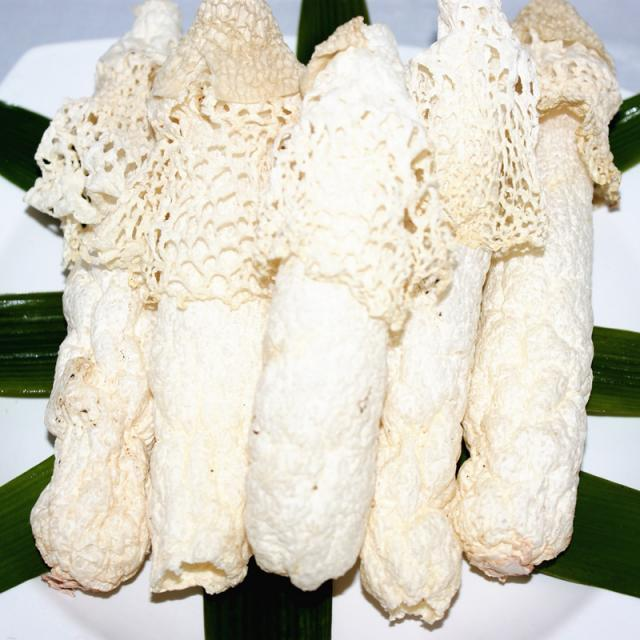Dictyophora indusiate: (247, 22, 451, 592), (385, 0, 542, 624), (149, 0, 303, 594), (479, 0, 620, 592), (26, 41, 155, 590)
